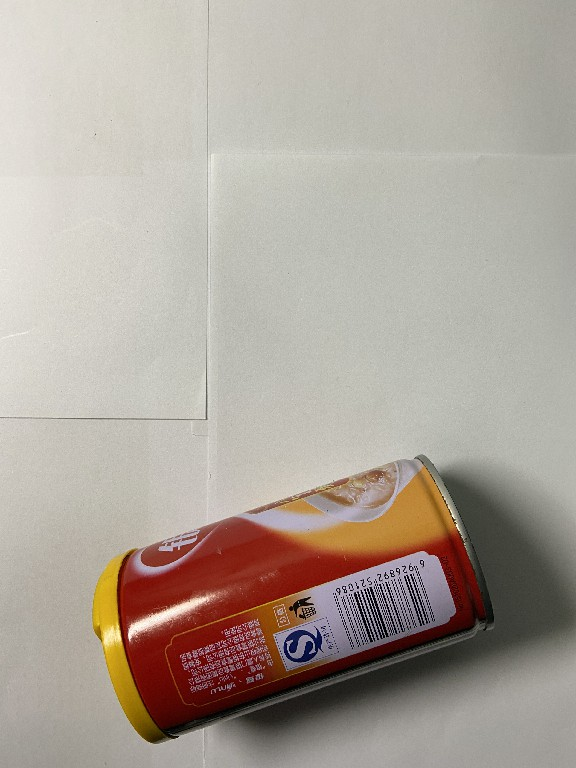can: (85, 449, 504, 748)
